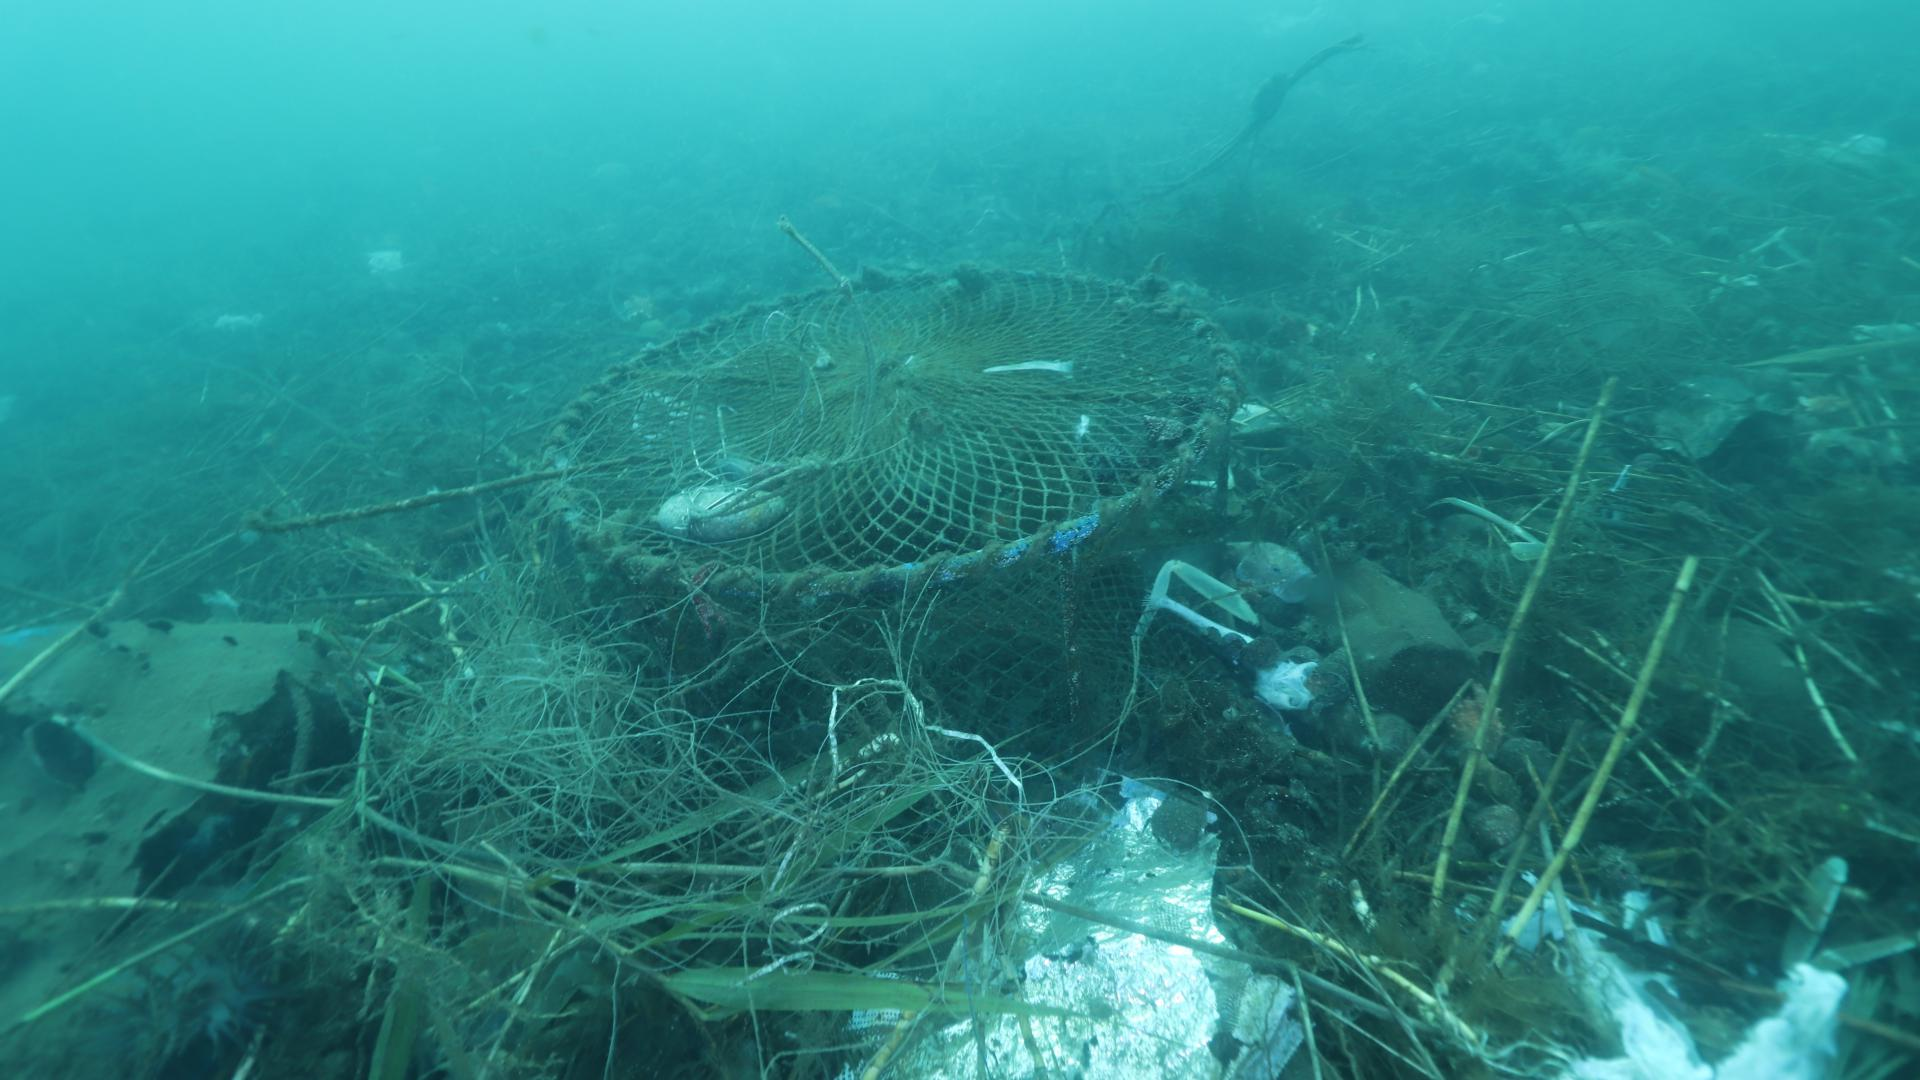circular fish trap: (546, 262, 1242, 647)
